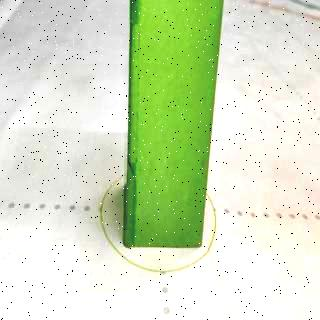greenbox: (126, 0, 223, 251)
